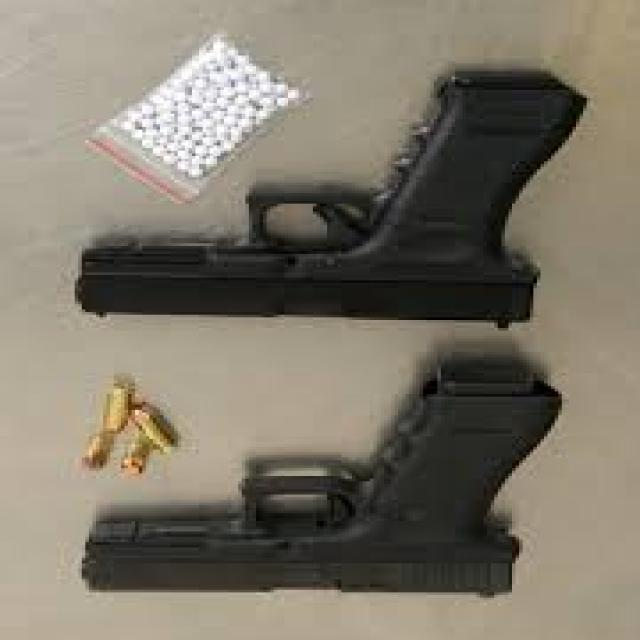gun: (44, 37, 596, 350), (71, 362, 583, 640)
